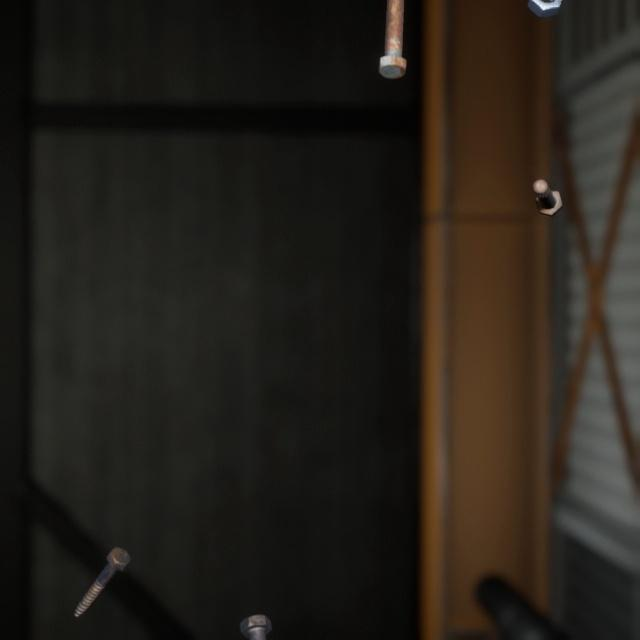bolt: (69, 519, 135, 598), (374, 0, 411, 76), (235, 585, 276, 640), (528, 159, 567, 206)
